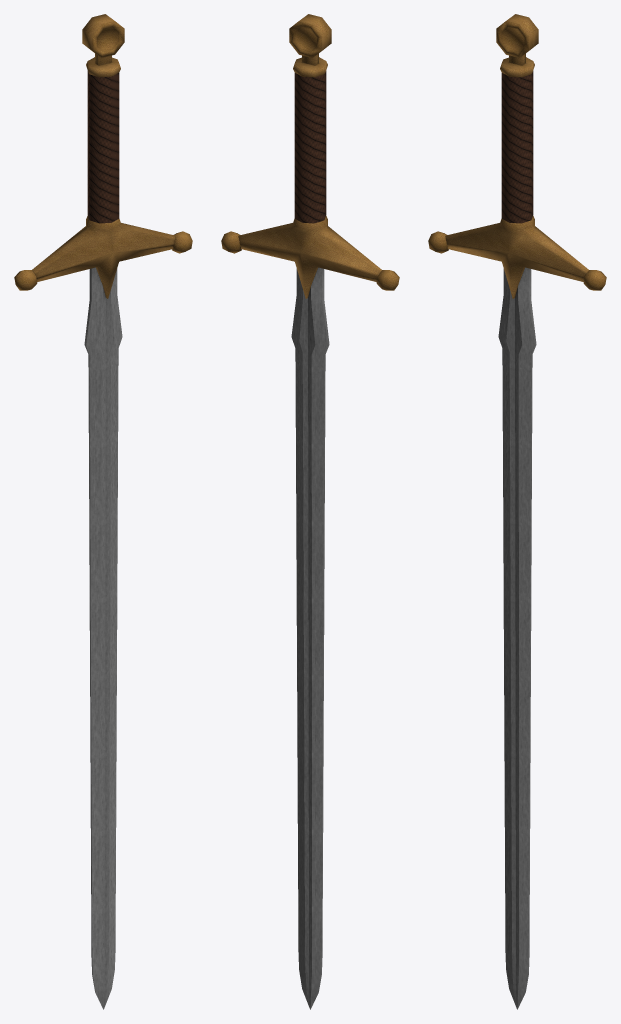
File: 002 Longsword.fbx
3 renders of one model, left to right at view 1: azimuth 30°, elevation 25°; view 2: azimuth 150°, elevation 25°; view 3: azimuth 330°, elevation 25°, orthographic.
Parts seen in each view (by area): view 1: 002 LongSword 89cm 0.89m; view 2: 002 LongSword 89cm 0.89m; view 3: 002 LongSword 89cm 0.89m.
Part boxes in pixels (<box>): 002 LongSword 89cm 0.89m: <box>14,14,192,1009</box>; 002 LongSword 89cm 0.89m: <box>221,14,399,1009</box>; 002 LongSword 89cm 0.89m: <box>428,14,606,1009</box>.
Size of the model in its own units: 16.53 by 89 by 3.06.
Materials: 1 (1 with a texture image).
